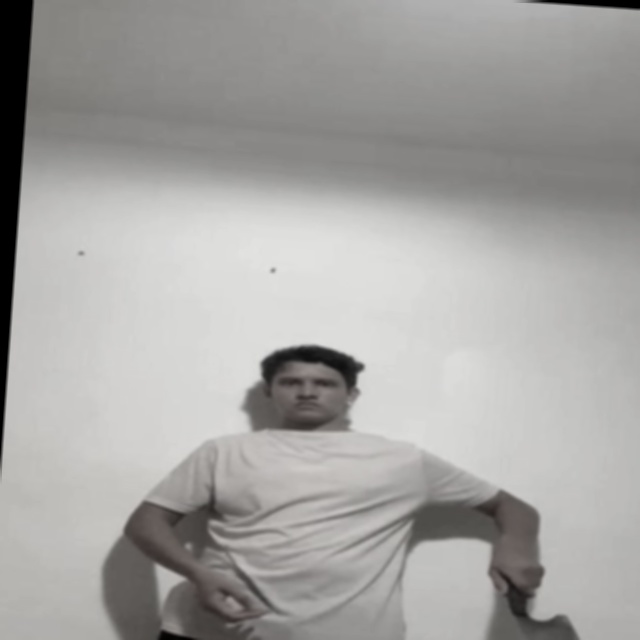Sharp-Object: (514, 609, 598, 640)
